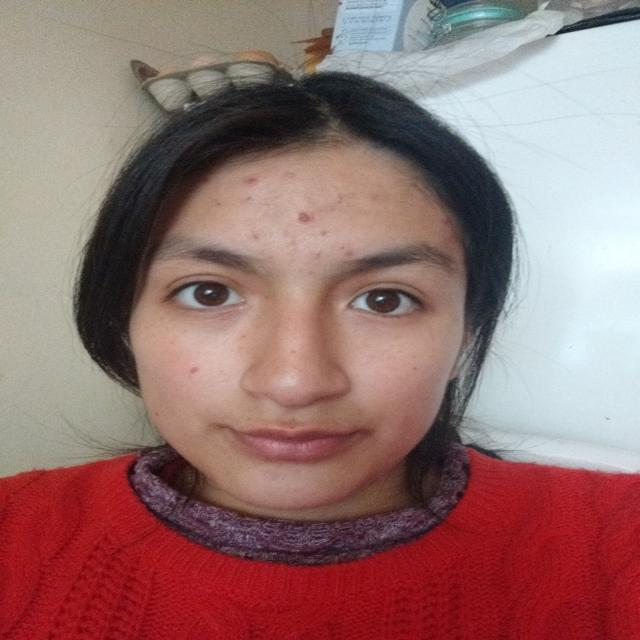Acne: (291, 210, 317, 228), (275, 170, 304, 183), (240, 174, 262, 189), (334, 245, 356, 259), (309, 226, 337, 237), (365, 192, 389, 204), (305, 247, 323, 260), (335, 194, 351, 206), (188, 364, 202, 377), (304, 265, 320, 276), (248, 234, 261, 245), (245, 195, 259, 205), (213, 201, 225, 209), (441, 220, 454, 227)
